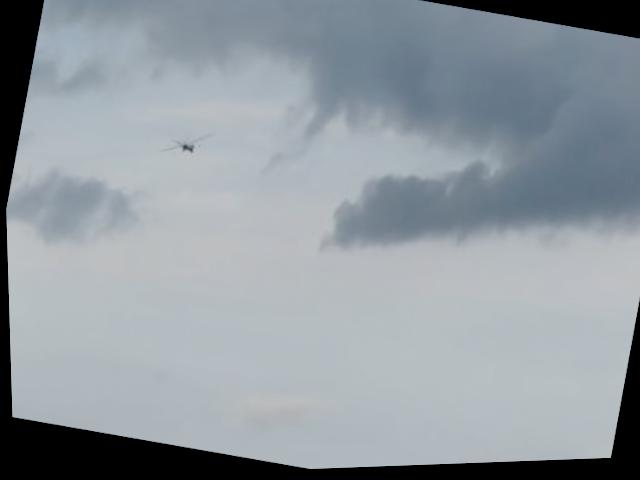uav: (150, 116, 220, 174)
